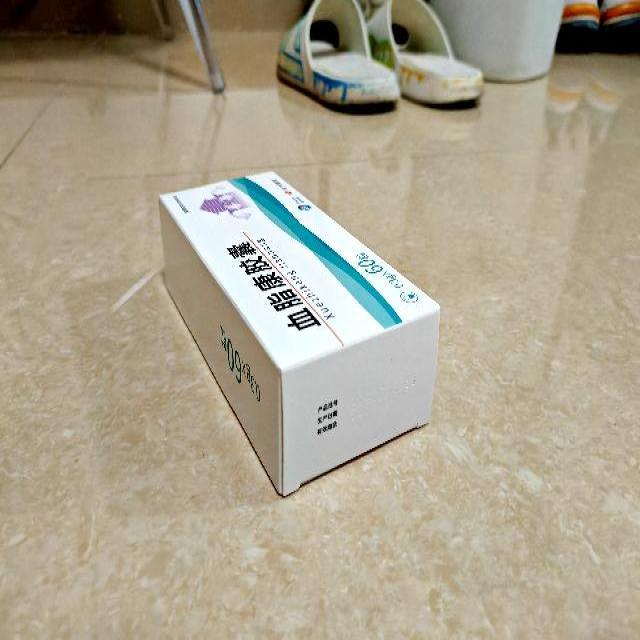box: (158, 170, 442, 497)
